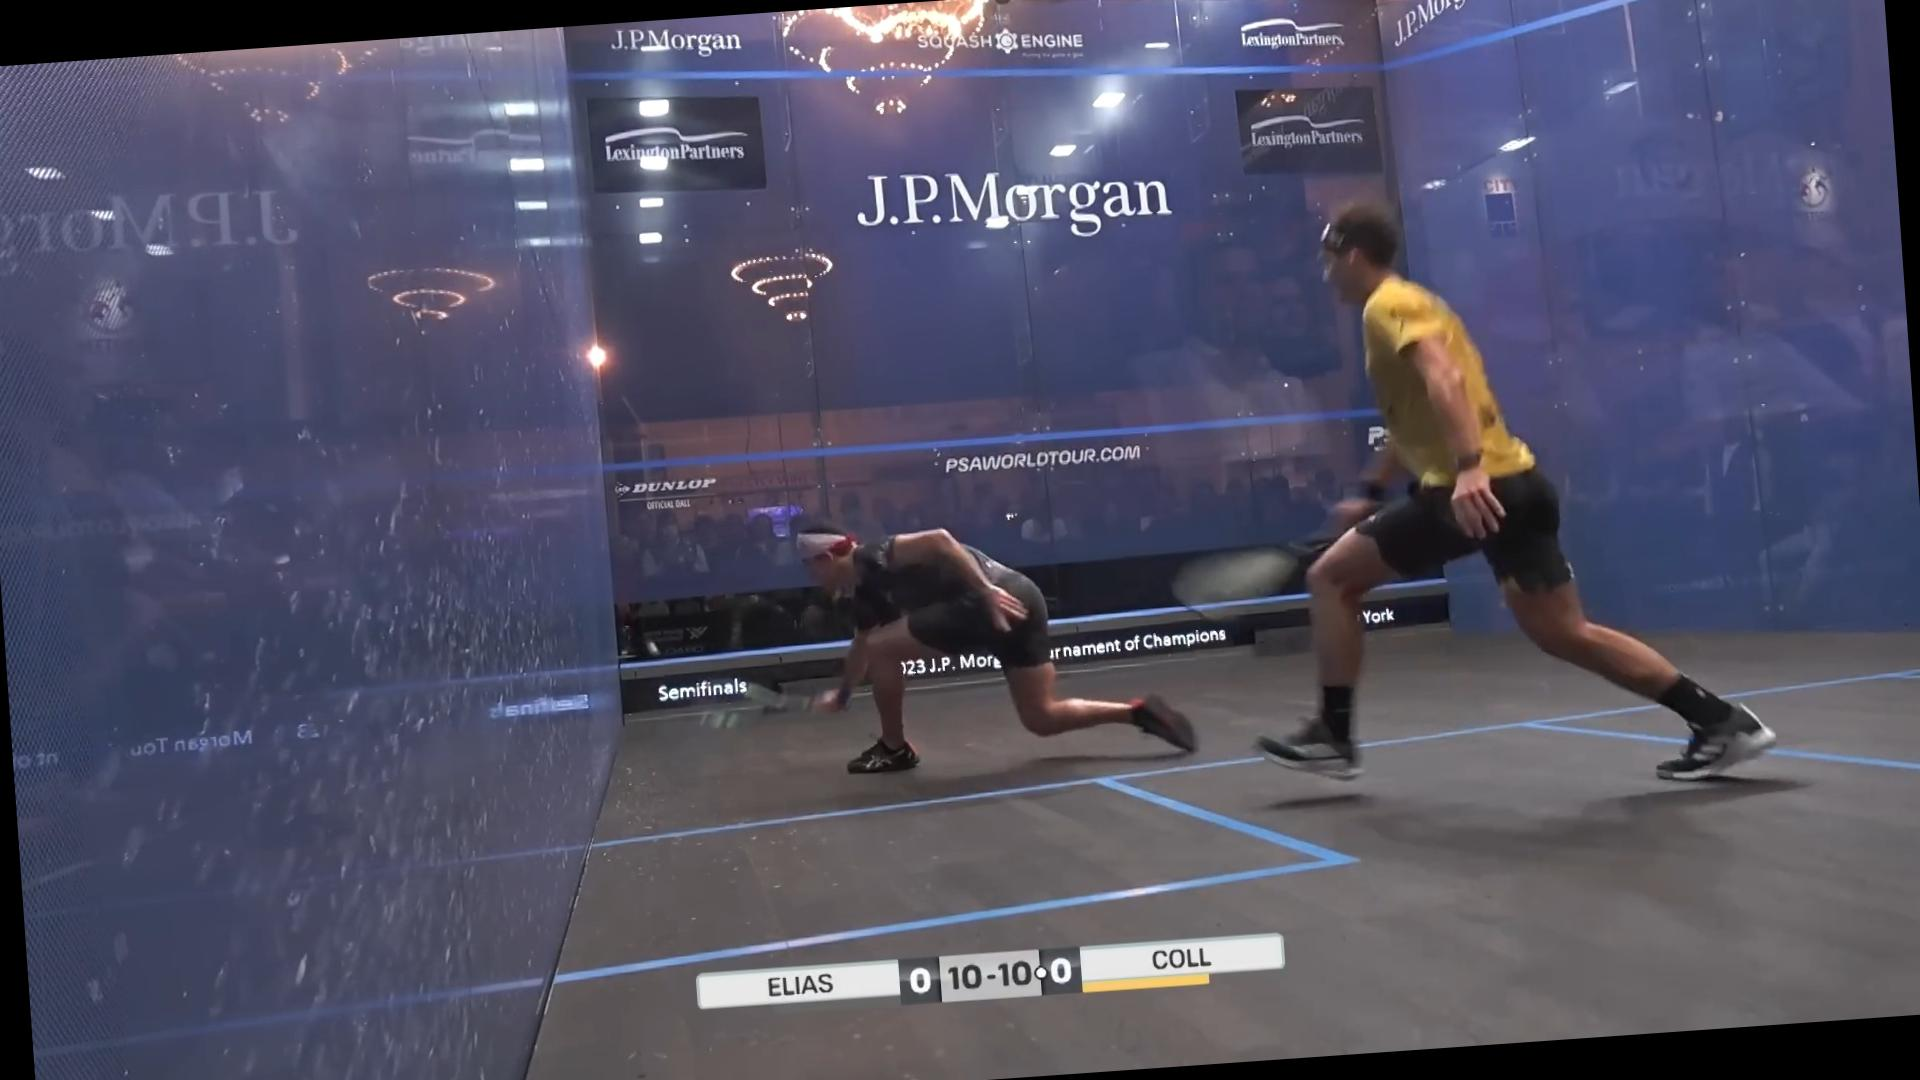Racket: (1159, 525, 1341, 637)
